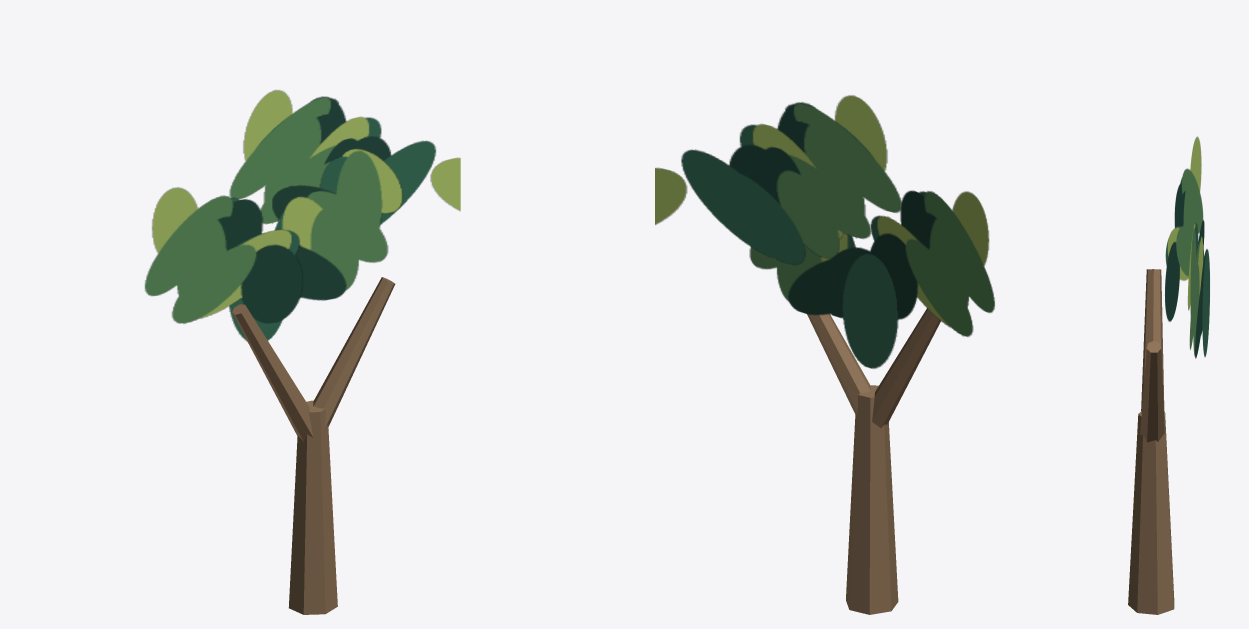
File: TREE_NATIVE_ROUNDED_001_V4_LOD_MAP.glb
3 renders of one model, left to right at view 1: azimuth 30°, elevation 25°; view 2: azimuth 150°, elevation 25°; view 3: azimuth 270°, elevation 25°, orthographic. The views are drawn at different scales.
Visible parts, largest first — view 1: GG_NATIVE_V4_CLUSTER_00, GG_NATIVE_V4_CLUSTER_02, GG_NATIVE_V4_CLUSTER_01, GG_NATIVE_V4_LOCKED_CARCASS_00, GG_NATIVE_V4_LOCKED_CARCASS_02, GG_NATIVE_V4_LOCKED_CARCASS_01; view 2: GG_NATIVE_V4_CLUSTER_02, GG_NATIVE_V4_CLUSTER_00, GG_NATIVE_V4_CLUSTER_01, GG_NATIVE_V4_LOCKED_CARCASS_00, GG_NATIVE_V4_LOCKED_CARCASS_01, GG_NATIVE_V4_LOCKED_CARCASS_02; view 3: GG_NATIVE_V4_LOCKED_CARCASS_00, GG_NATIVE_V4_CLUSTER_00, GG_NATIVE_V4_CLUSTER_01, GG_NATIVE_V4_LOCKED_CARCASS_02, GG_NATIVE_V4_LOCKED_CARCASS_01.
Boxes of the visible parts, x1,y1,x2,y2 form: GG_NATIVE_V4_CLUSTER_00: (145,187,303,323); GG_NATIVE_V4_CLUSTER_02: (229,90,460,224); GG_NATIVE_V4_CLUSTER_01: (229,148,402,341); GG_NATIVE_V4_LOCKED_CARCASS_00: (288,400,337,614); GG_NATIVE_V4_LOCKED_CARCASS_02: (313,277,395,428); GG_NATIVE_V4_LOCKED_CARCASS_01: (232,304,313,441); GG_NATIVE_V4_CLUSTER_02: (655,95,902,265); GG_NATIVE_V4_CLUSTER_00: (870,190,994,336); GG_NATIVE_V4_CLUSTER_01: (749,232,898,368); GG_NATIVE_V4_LOCKED_CARCASS_00: (846,385,898,614); GG_NATIVE_V4_LOCKED_CARCASS_01: (872,308,940,428); GG_NATIVE_V4_LOCKED_CARCASS_02: (807,313,870,415); GG_NATIVE_V4_LOCKED_CARCASS_00: (1128,411,1174,614); GG_NATIVE_V4_CLUSTER_00: (1165,136,1203,321); GG_NATIVE_V4_CLUSTER_01: (1188,220,1209,358); GG_NATIVE_V4_LOCKED_CARCASS_02: (1140,341,1164,442); GG_NATIVE_V4_LOCKED_CARCASS_01: (1141,269,1164,410).
Bounding box in the file's own units: 7.02 × 6.93 × 1.32.
Materials: 2 (1 with a texture image).
